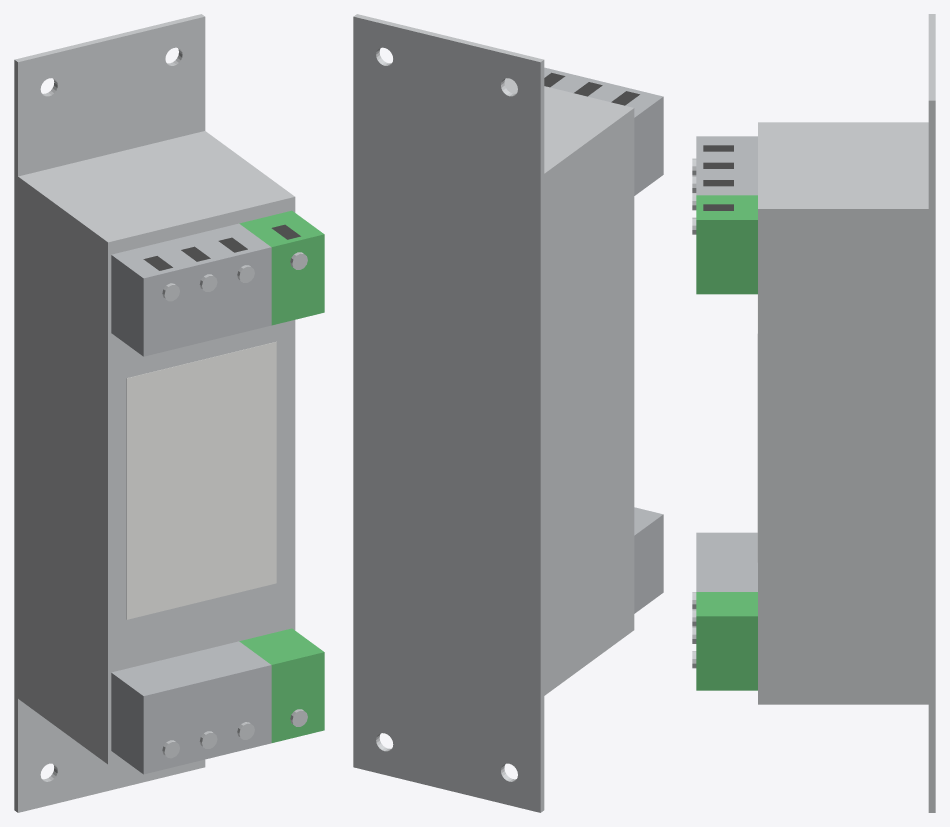
The model's file is filter-emc.glb.
3 views of the same model, side by side, from view 1: azimuth 30°, elevation 25°; view 2: azimuth 150°, elevation 25°; view 3: azimuth 270°, elevation 25° (orthographic). The views are drawn at different scales.
Visible parts, largest first — view 1: body; view 2: body; view 3: body.
Boxes of the visible parts, x1,y1,x2,y2 form: body: (14,14,324,812); body: (353,14,663,812); body: (696,14,935,812).
Size of what is drawn, in the model's own units: 0.06 by 0.23 by 0.0712.
